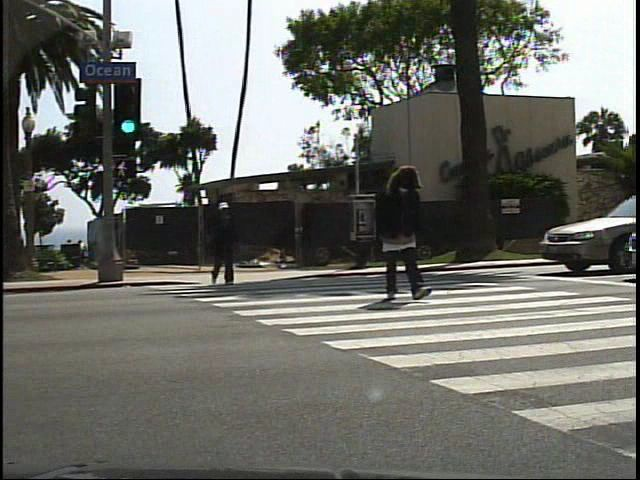person: (371, 160, 441, 314), (203, 196, 240, 291)
